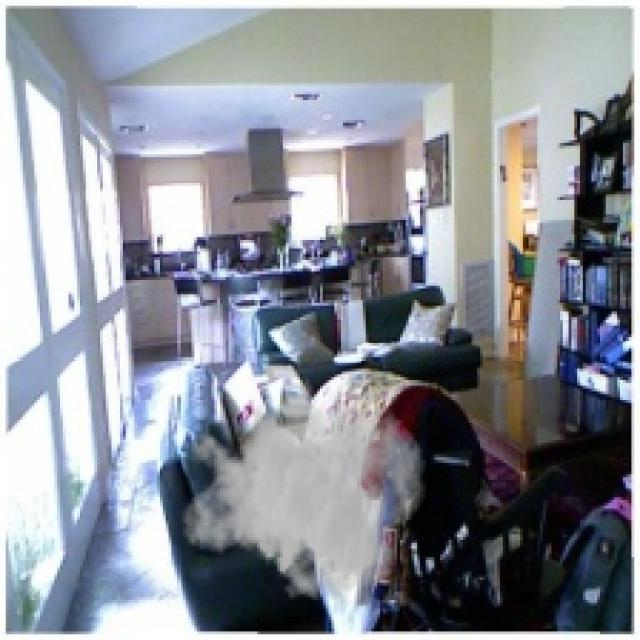Smoke: (180, 366, 426, 608)
